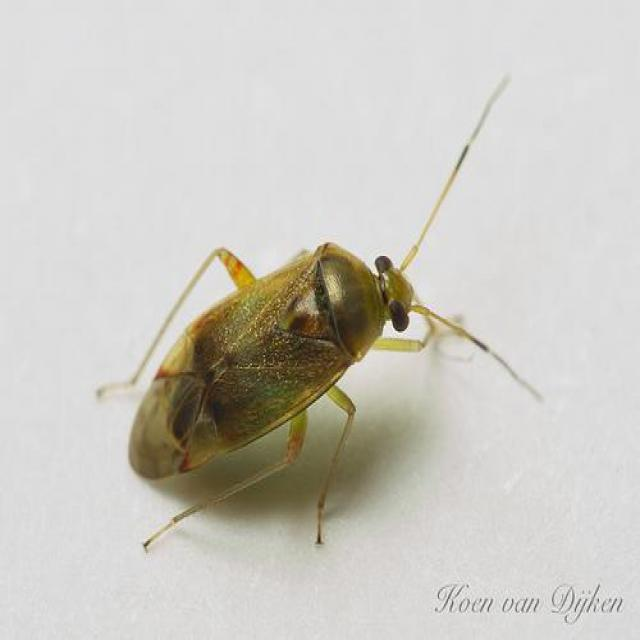Miridae-Adult-: (105, 74, 566, 570)
